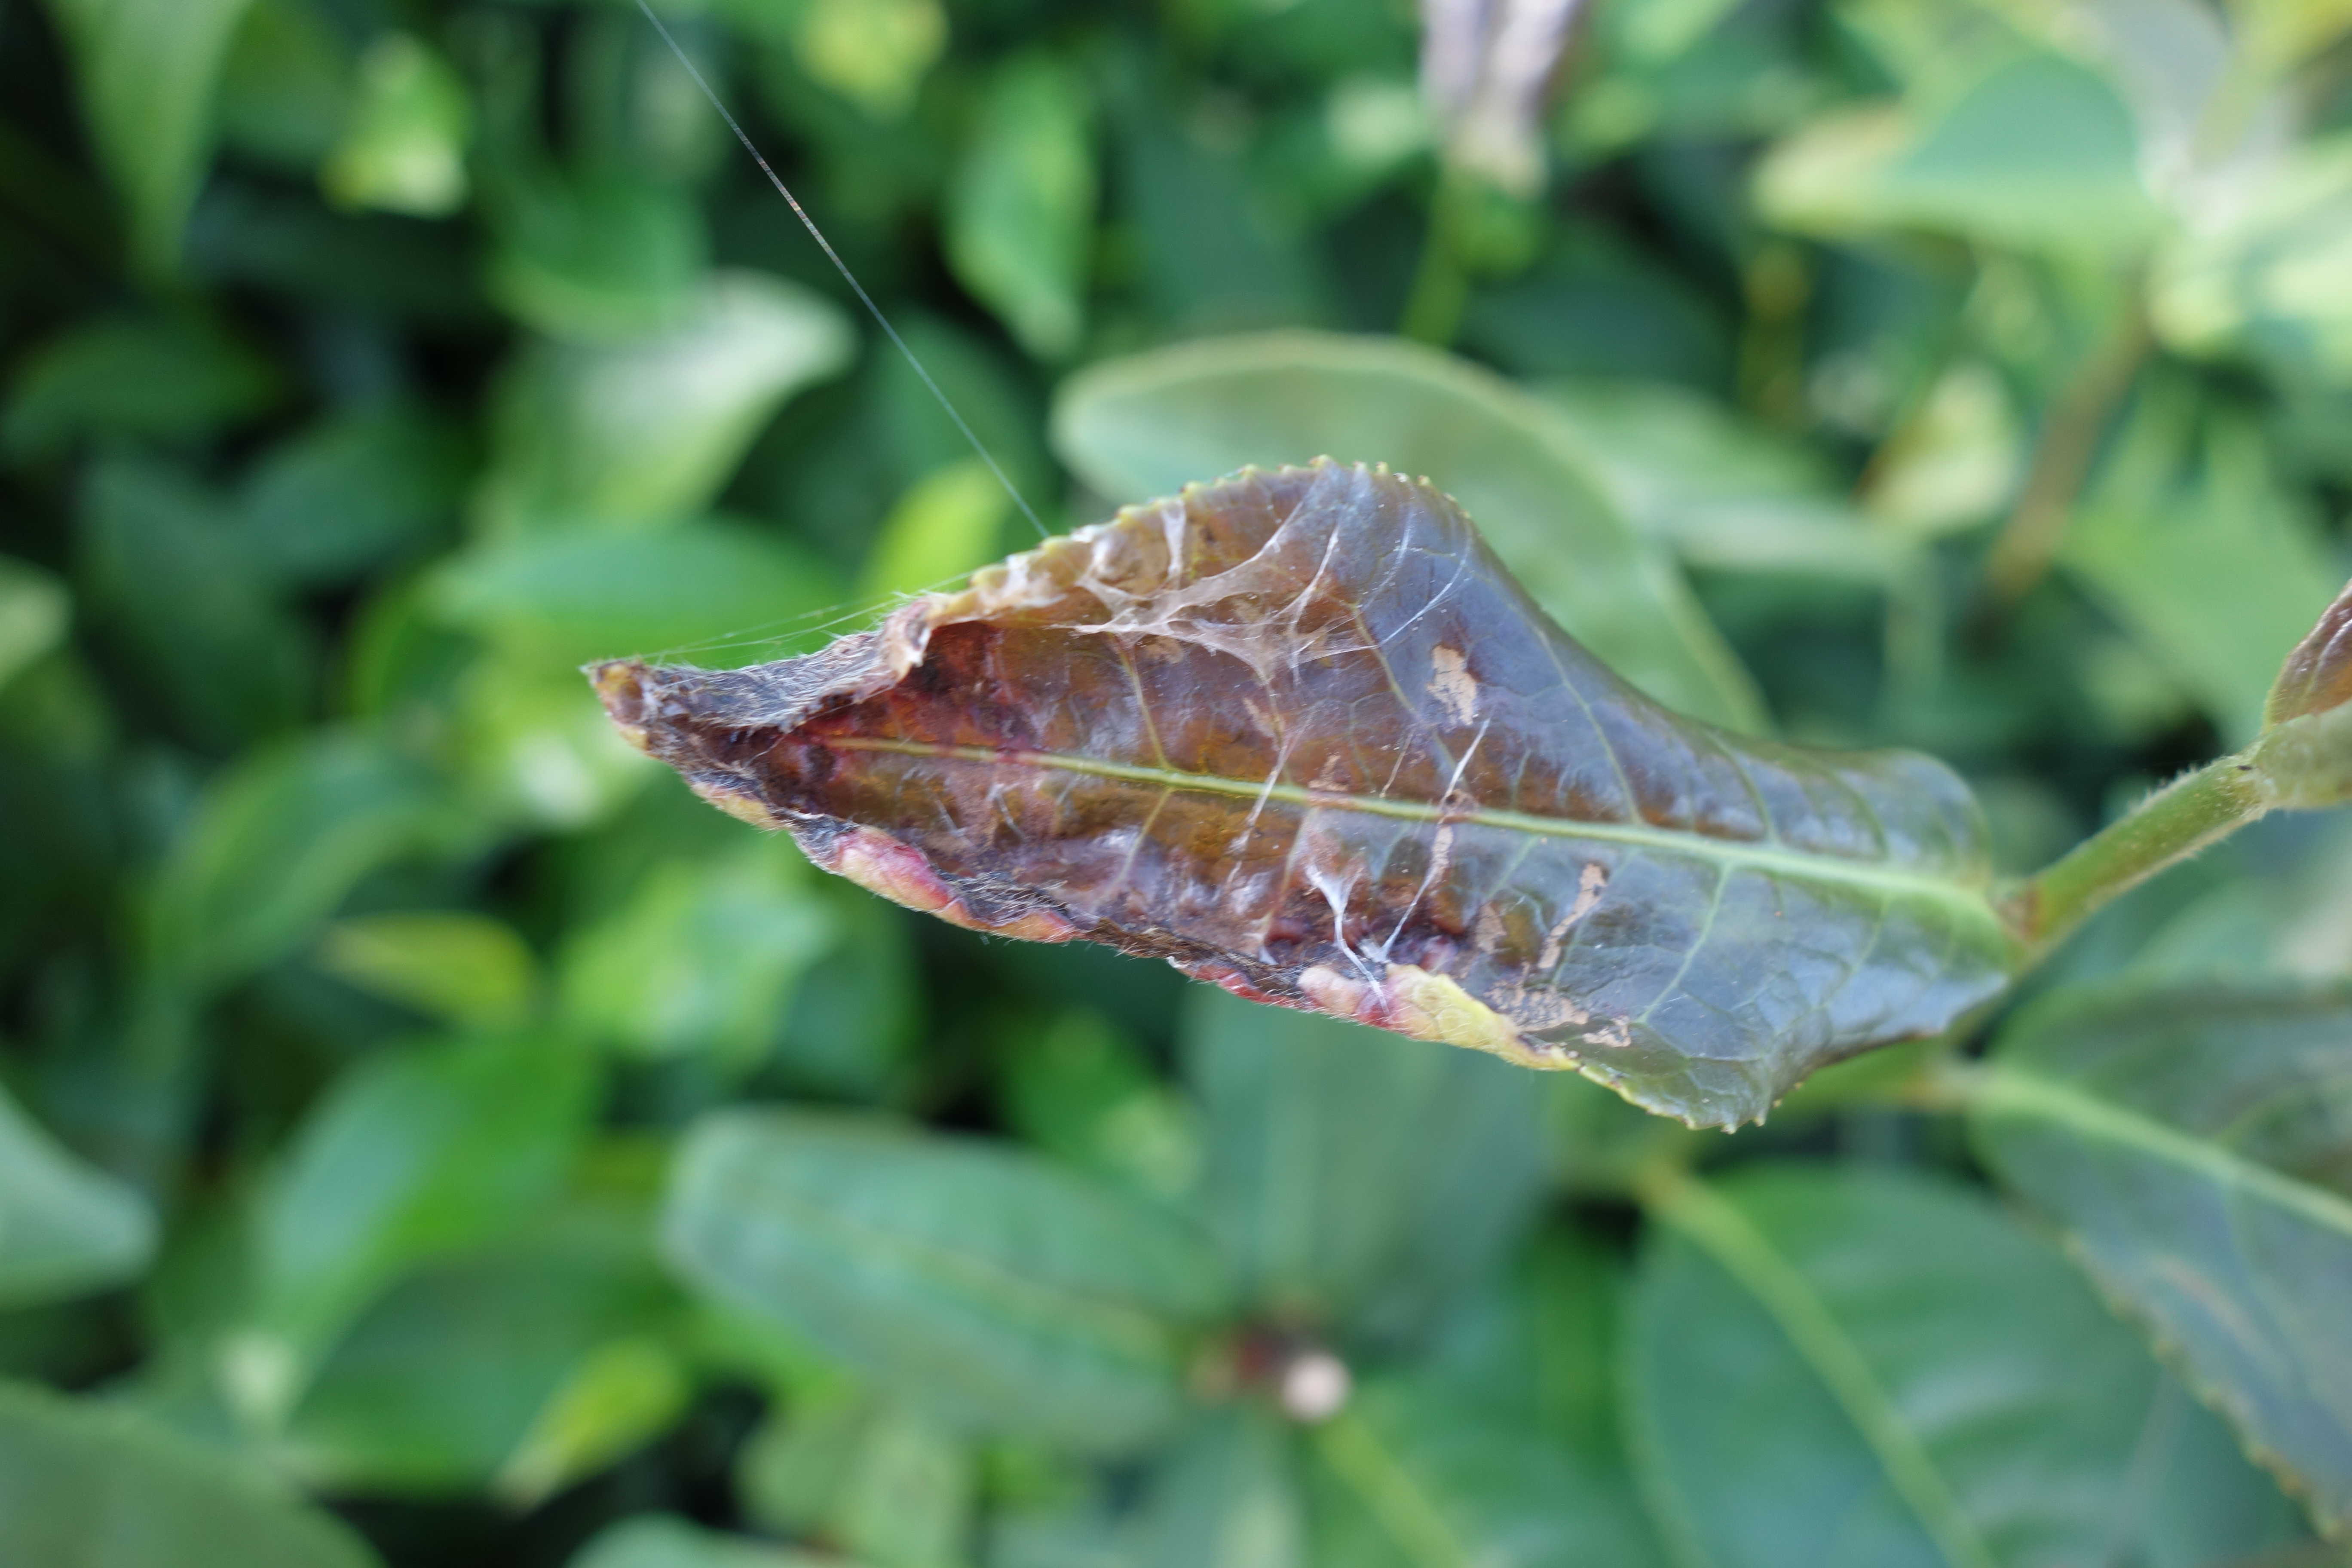tanju_low: (576, 451, 2037, 1137)
